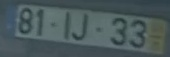1: (34, 8, 44, 37)
3: (128, 17, 147, 49), (108, 16, 128, 46)
8: (16, 6, 33, 35)
I: (63, 11, 71, 40)
J: (69, 12, 88, 42)
